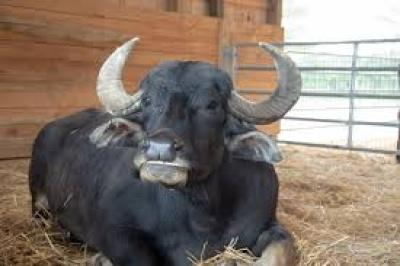buffalo: (29, 41, 300, 265)
